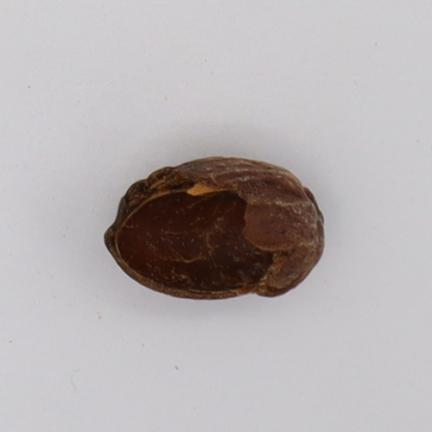husk: (105, 158, 323, 298)
